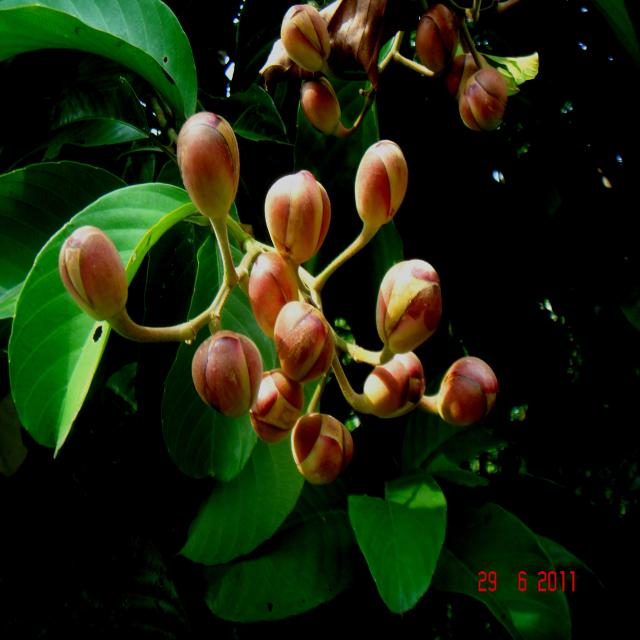Simpoh-Lak: (39, 214, 144, 332), (166, 102, 248, 230), (372, 247, 455, 355), (262, 154, 334, 274), (185, 324, 266, 422), (430, 349, 511, 436), (346, 343, 428, 424), (348, 126, 410, 231), (269, 296, 337, 384), (290, 406, 354, 490), (244, 244, 302, 335), (454, 56, 516, 139), (250, 359, 308, 445), (272, 3, 340, 74), (410, 3, 466, 74), (298, 76, 359, 133)
